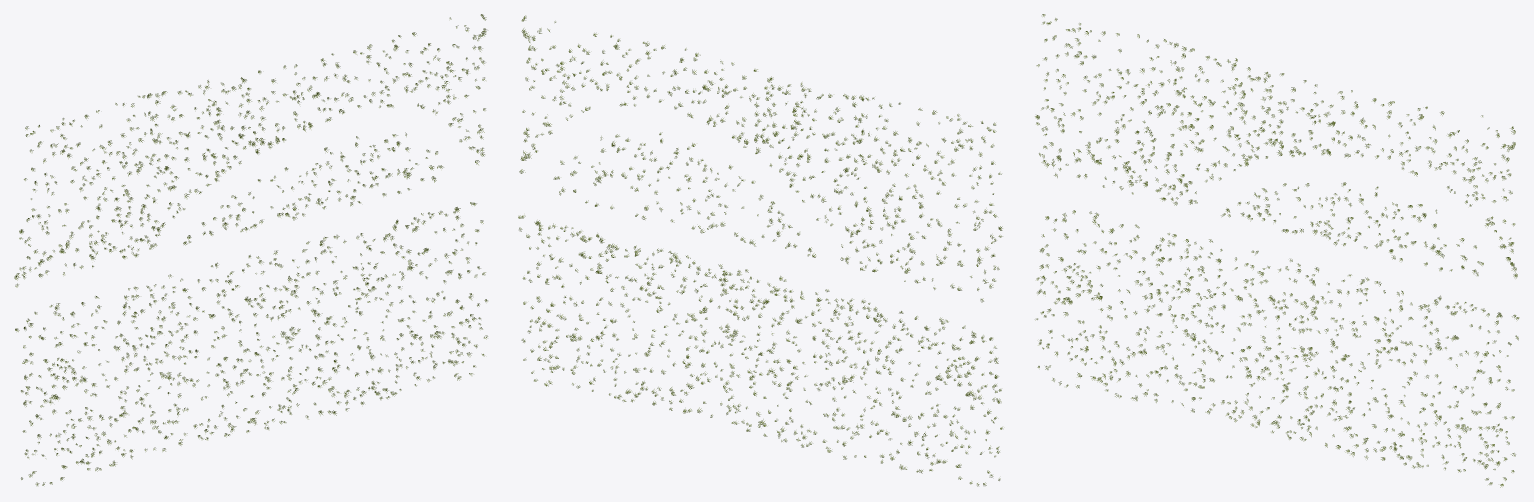
The model's file is undergrowth.obj.
The picture shows the model from 3 angles, left to right: view 1: azimuth 30°, elevation 25°; view 2: azimuth 150°, elevation 25°; view 3: azimuth 330°, elevation 25°; orthographic projection.
Parts seen in each view (by area): view 1: undergrowth; view 2: undergrowth; view 3: undergrowth.
Boxes of the visible parts, x1,y1,x2,y2 form: undergrowth: (14, 14, 487, 485); undergrowth: (518, 15, 1002, 486); undergrowth: (1035, 14, 1519, 487).
Bounding box in the file's own units: 76.89 × 56.67 × 4.75.
